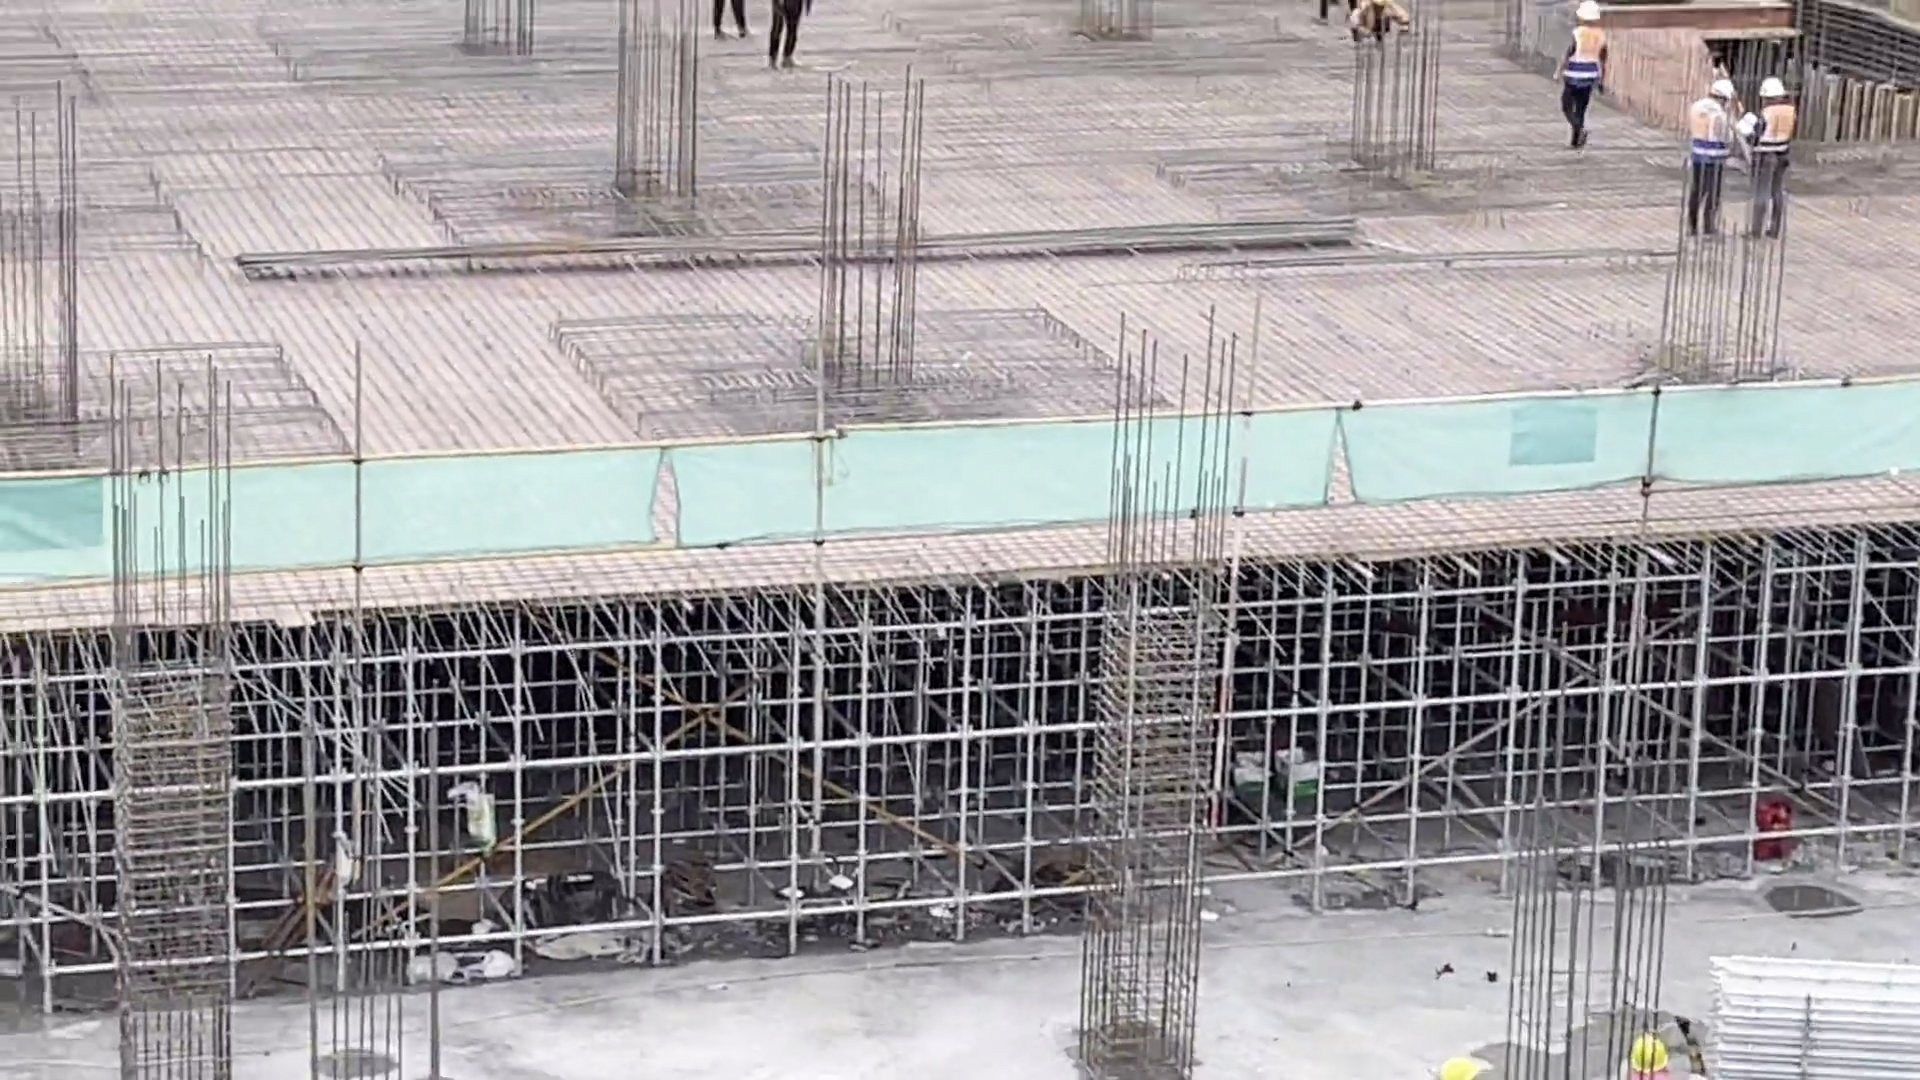helmet: (1628, 1035, 1669, 1074), (1433, 1053, 1472, 1080), (1756, 75, 1791, 102), (1577, 1, 1608, 27), (1707, 79, 1734, 102)
person: (1740, 76, 1803, 246), (1685, 75, 1740, 237), (1554, 1, 1612, 154), (764, 1, 815, 79), (709, 1, 759, 45)
vest: (1690, 101, 1739, 169), (1567, 26, 1607, 86), (1758, 106, 1793, 161)
